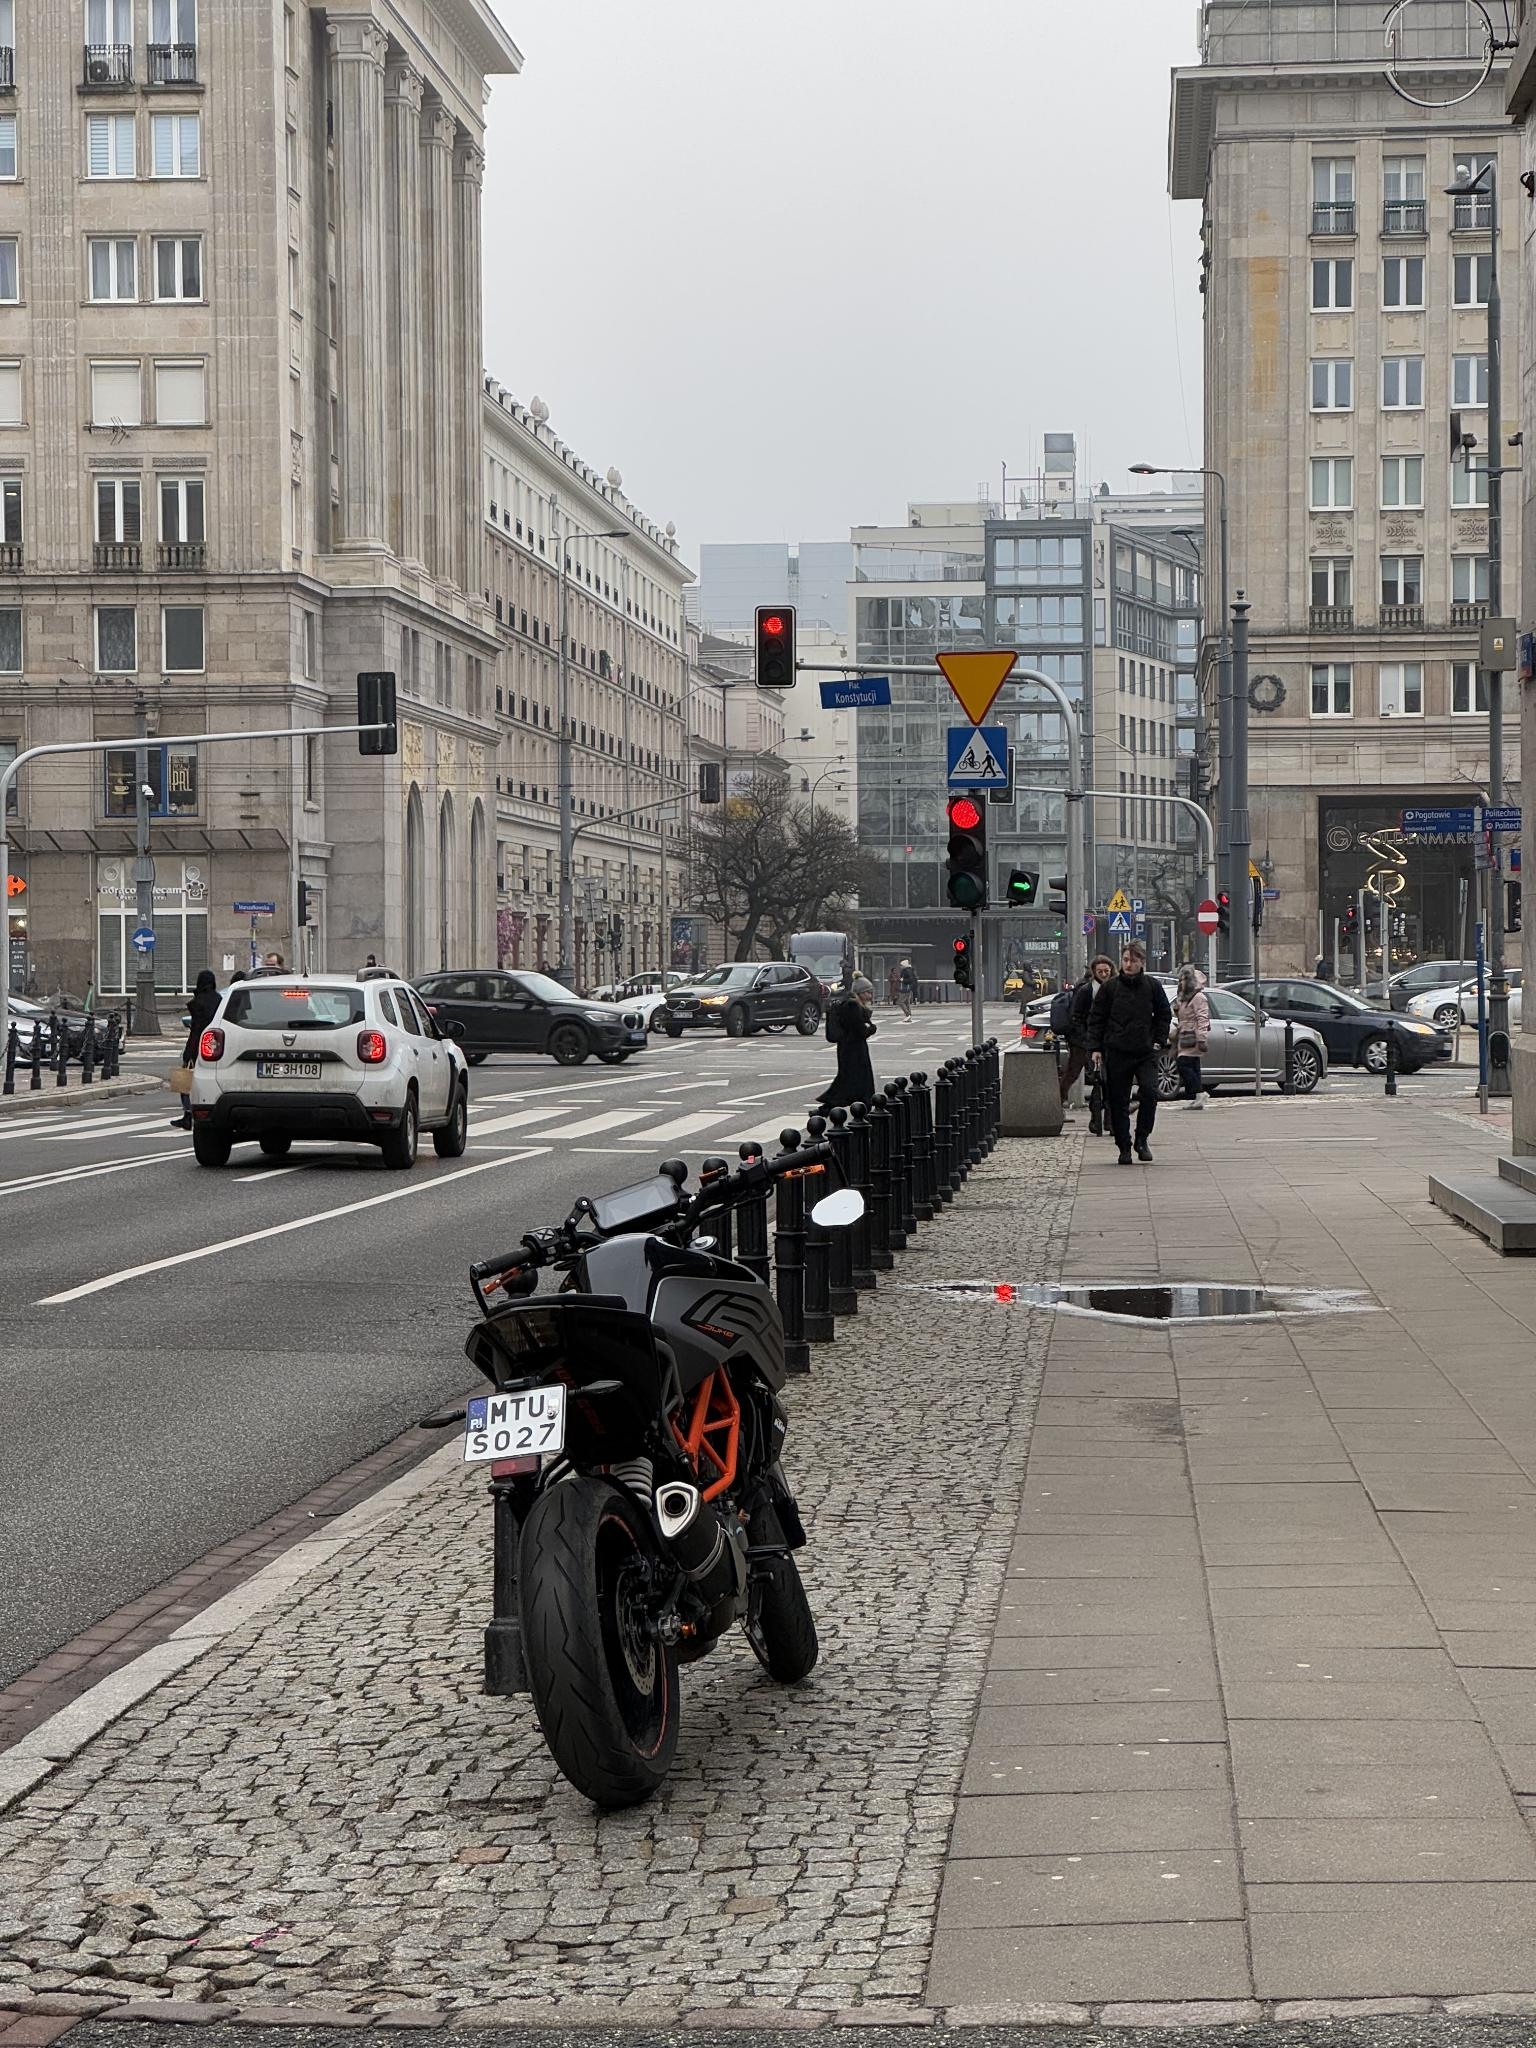information: (945, 727, 1010, 790), (1108, 913, 1131, 934), (1131, 898, 1146, 913), (1134, 921, 1146, 939)
mandatory: (132, 927, 155, 951)
prohibitory: (1197, 900, 1220, 937), (1084, 913, 1096, 935)
warning: (936, 650, 1020, 727), (1107, 889, 1133, 911)
